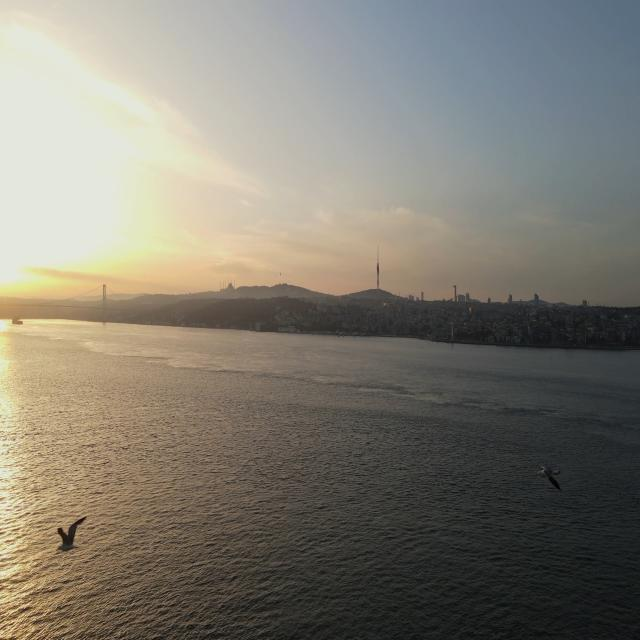bird: (46, 511, 93, 562), (532, 453, 561, 495)
